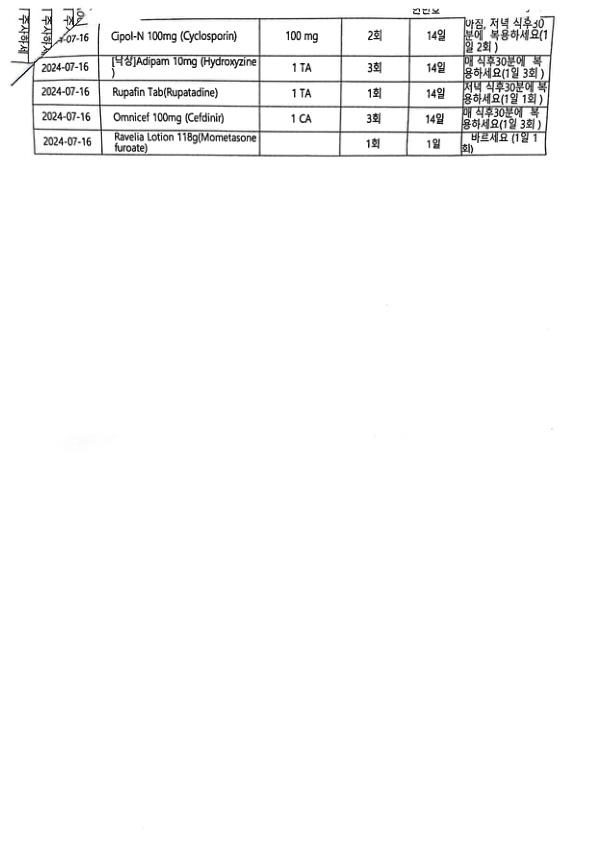row: (66, 19, 551, 56), (33, 54, 550, 83), (33, 80, 546, 109), (31, 106, 545, 134), (31, 130, 544, 157)
